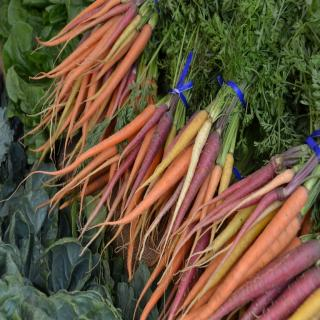Carrot: (0, 0, 320, 320), (0, 102, 158, 204)
